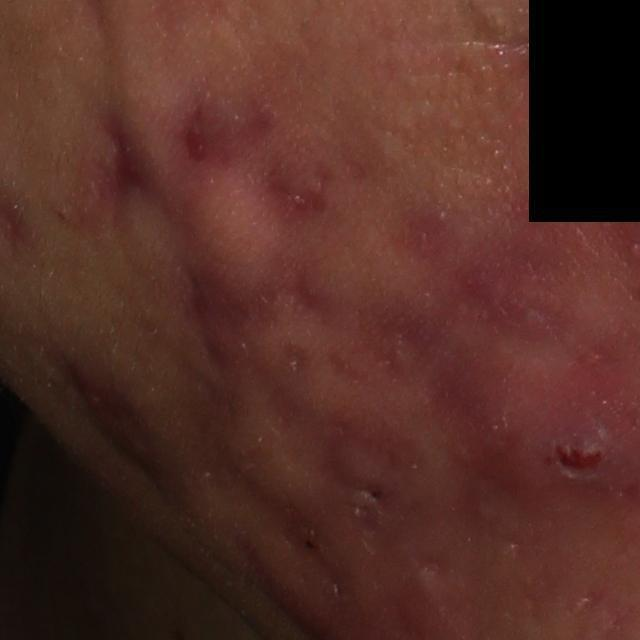atrophic_scar: (155, 308, 388, 602), (333, 194, 576, 384), (184, 106, 274, 164), (110, 109, 155, 225)
